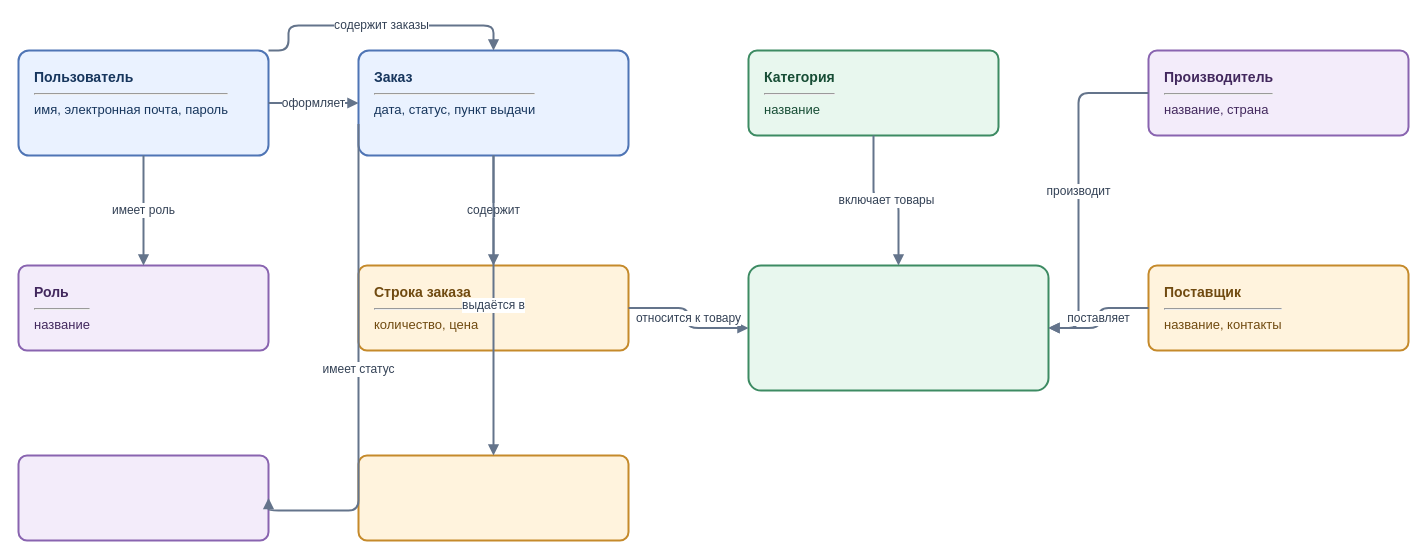
This 1426x558 diagram has some shape labels left out. Here are the shapes that lost their labels. From the top down, the box of each, then its label:
(747, 264, 1049, 391): Товар название, цена, описание, размер, цвет, изображение, наличие
(17, 454, 269, 541): Статус заказа название
(357, 454, 629, 541): Пункт выдачи адрес
